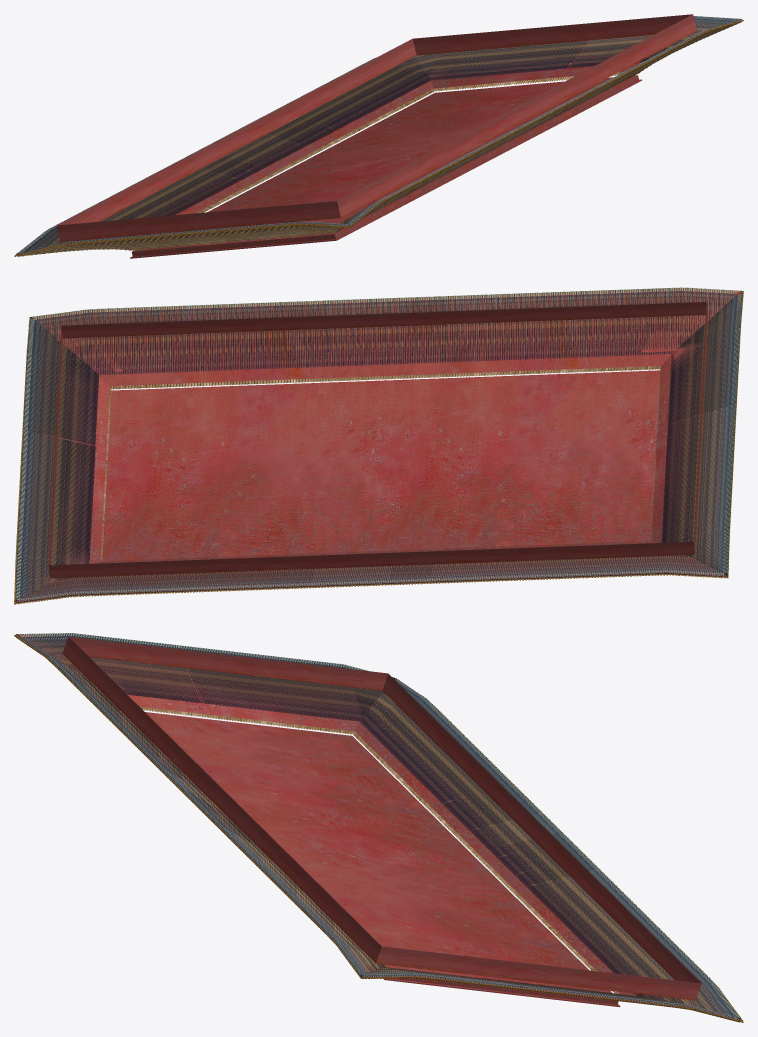
Rendered from 下屋顶.obj.
3 views of the same model, one above another, from view 1: azimuth 30°, elevation 25°; view 2: azimuth 150°, elevation 25°; view 3: azimuth 270°, elevation 25° (orthographic). The views are drawn at different scales.
Parts seen in each view (by area): view 1: Obj3d66_17342430_33_561, Obj3d66_17342430_16_935, Obj3d66_17342430_29_320; view 2: Obj3d66_17342430_33_561, Obj3d66_17342430_16_935, Obj3d66_17342430_29_320; view 3: Obj3d66_17342430_33_561, Obj3d66_17342430_16_935, Obj3d66_17342430_29_320.
Part boxes in pixels (x1,y1,x2,y2): Obj3d66_17342430_33_561: [28, 14, 736, 258]; Obj3d66_17342430_16_935: [17, 16, 741, 254]; Obj3d66_17342430_29_320: [14, 19, 743, 256]; Obj3d66_17342430_33_561: [16, 288, 741, 602]; Obj3d66_17342430_16_935: [15, 287, 742, 602]; Obj3d66_17342430_29_320: [14, 288, 743, 604]; Obj3d66_17342430_33_561: [17, 634, 741, 1021]; Obj3d66_17342430_16_935: [16, 633, 740, 1020]; Obj3d66_17342430_29_320: [14, 634, 743, 1022].
Bounding box in the file's own units: 1.76 × 0.3971 × 1.43.
5 materials, 5 textured.
